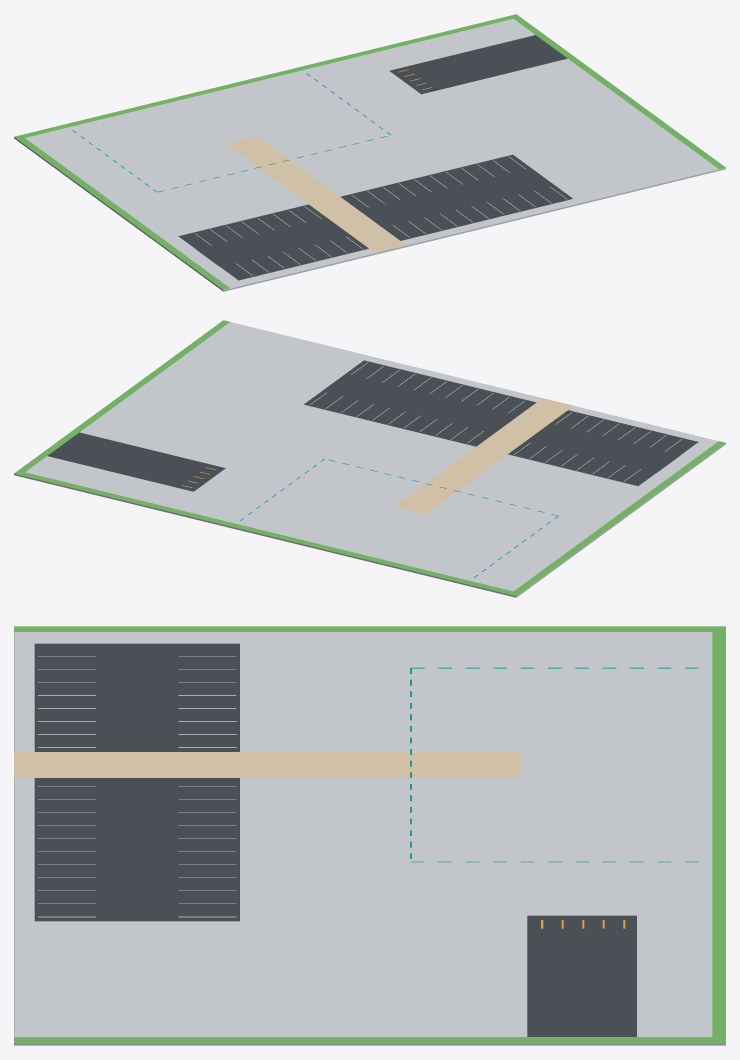
The model's file is CM_Plot_Pad_MiniMart.fbx.
3 views of the same model, one above another, from view 1: azimuth 30°, elevation 25°; view 2: azimuth 150°, elevation 25°; view 3: azimuth 270°, elevation 25° (orthographic). The views are drawn at different scales.
Visible parts, largest first — view 1: Pad; view 2: Pad; view 3: Pad.
Boxes of the visible parts, x1,y1,x2,y2 form: Pad: (14, 14, 725, 291); Pad: (14, 320, 725, 597); Pad: (14, 626, 725, 1045).
Size of the model in its own units: 288 by 208 by 1.01.
Materials: 1 (1 with a texture image).
